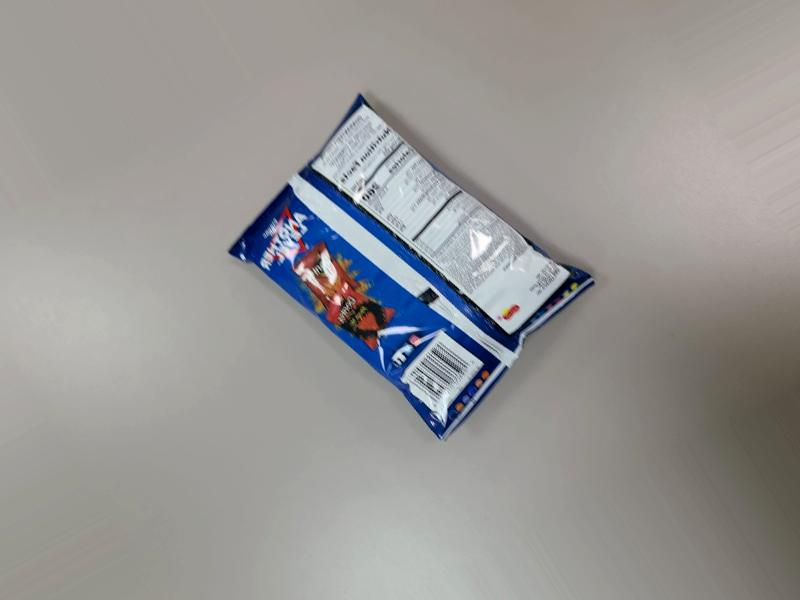doritos: (211, 108, 595, 449)
